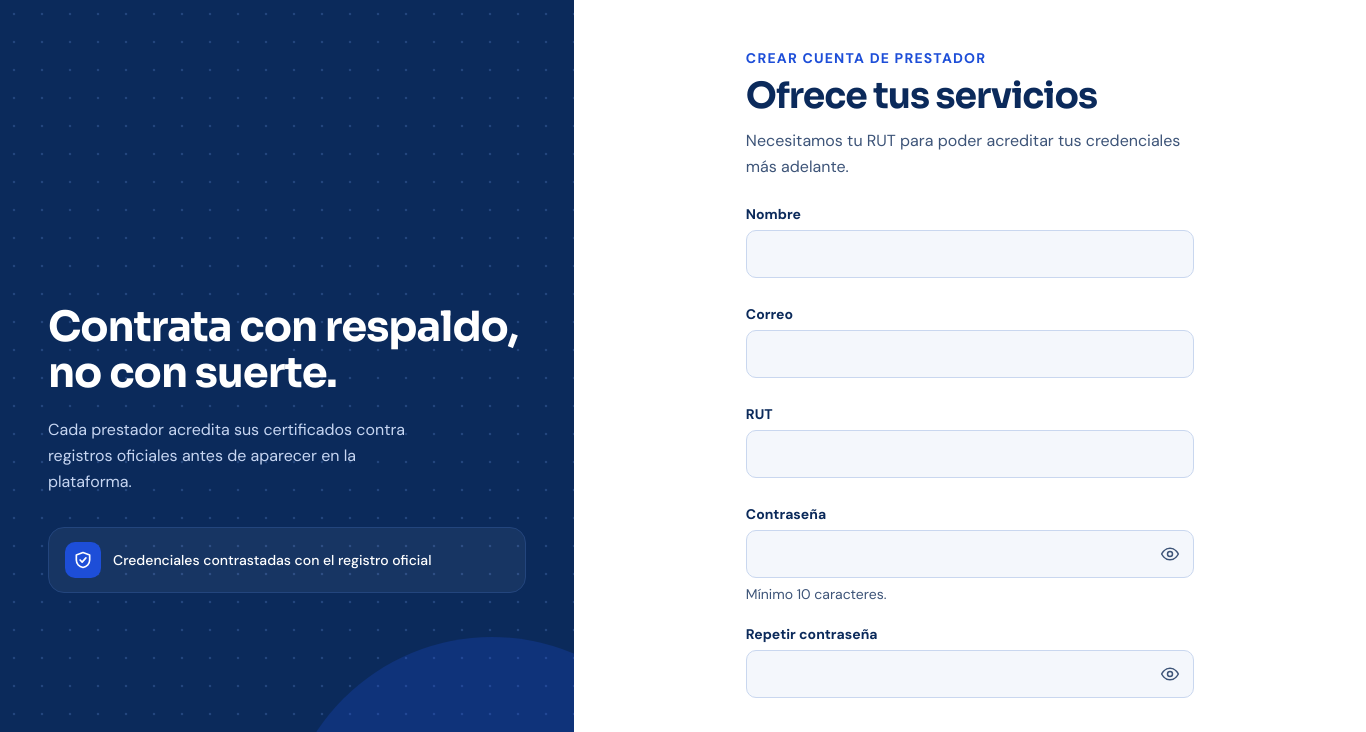
Test case: Registro de prestador › muestra bajo el campo el error de RUT que devuelve la API
In the field labelled "Nombre": (970, 254) 746,230 -> 1194,278, type "Pedro Soto"
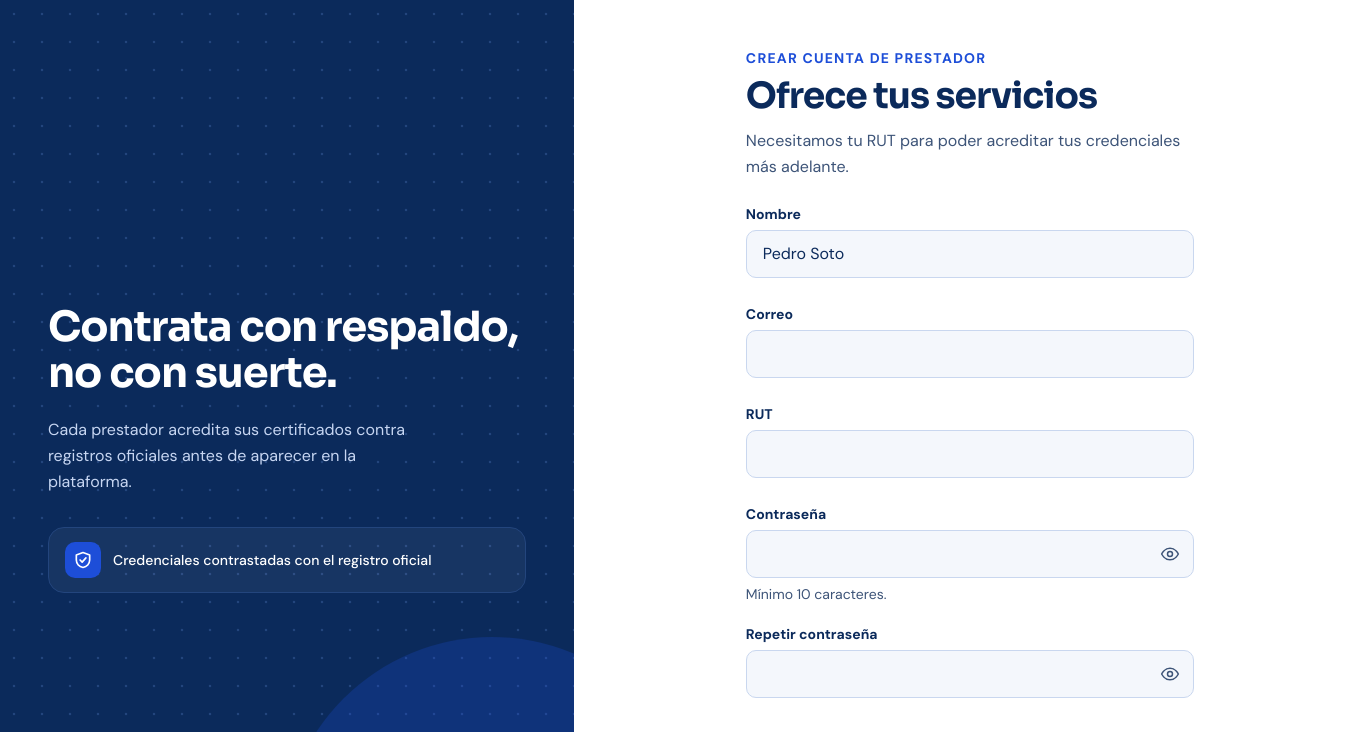
In the field labelled "Correo": (970, 354) 746,330 -> 1194,378, type "pedro.soto@ejemplo.cl"
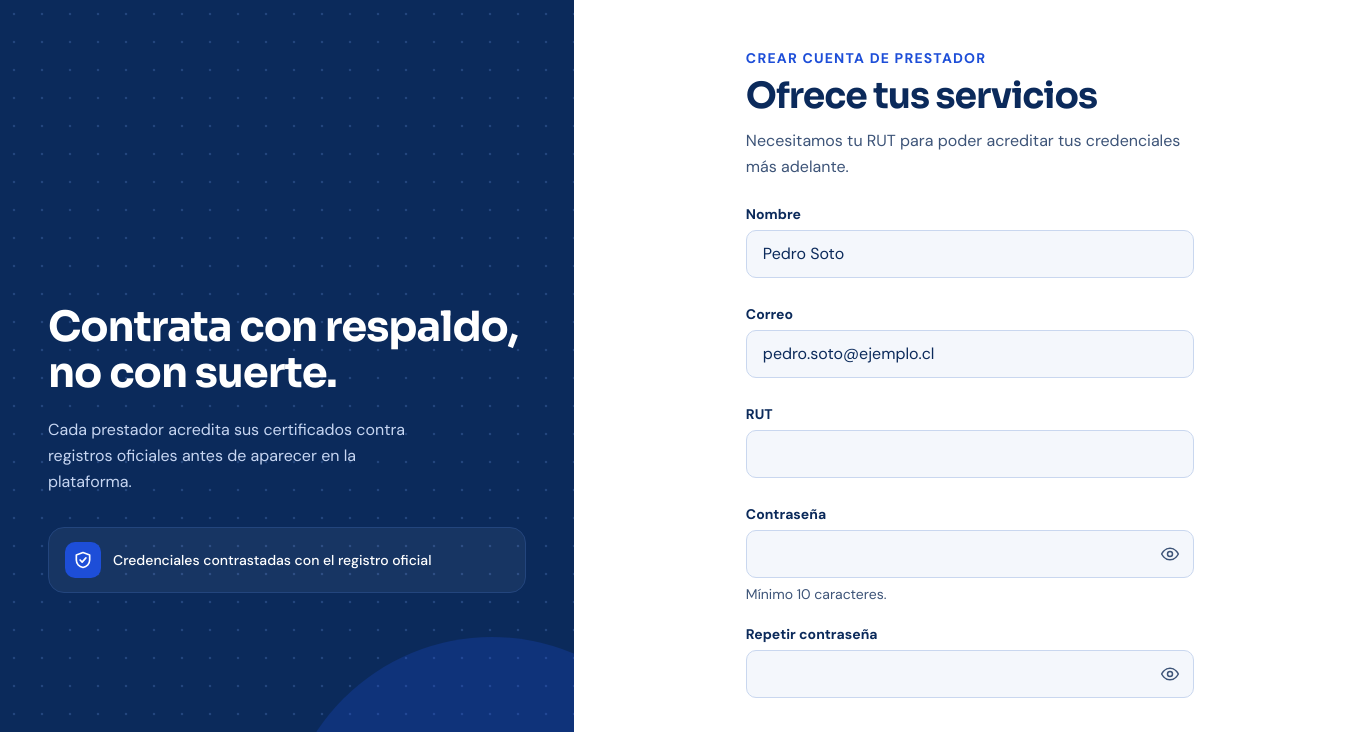
In the field labelled "RUT": (970, 454) 746,430 -> 1194,478, type "12.345.678-5"
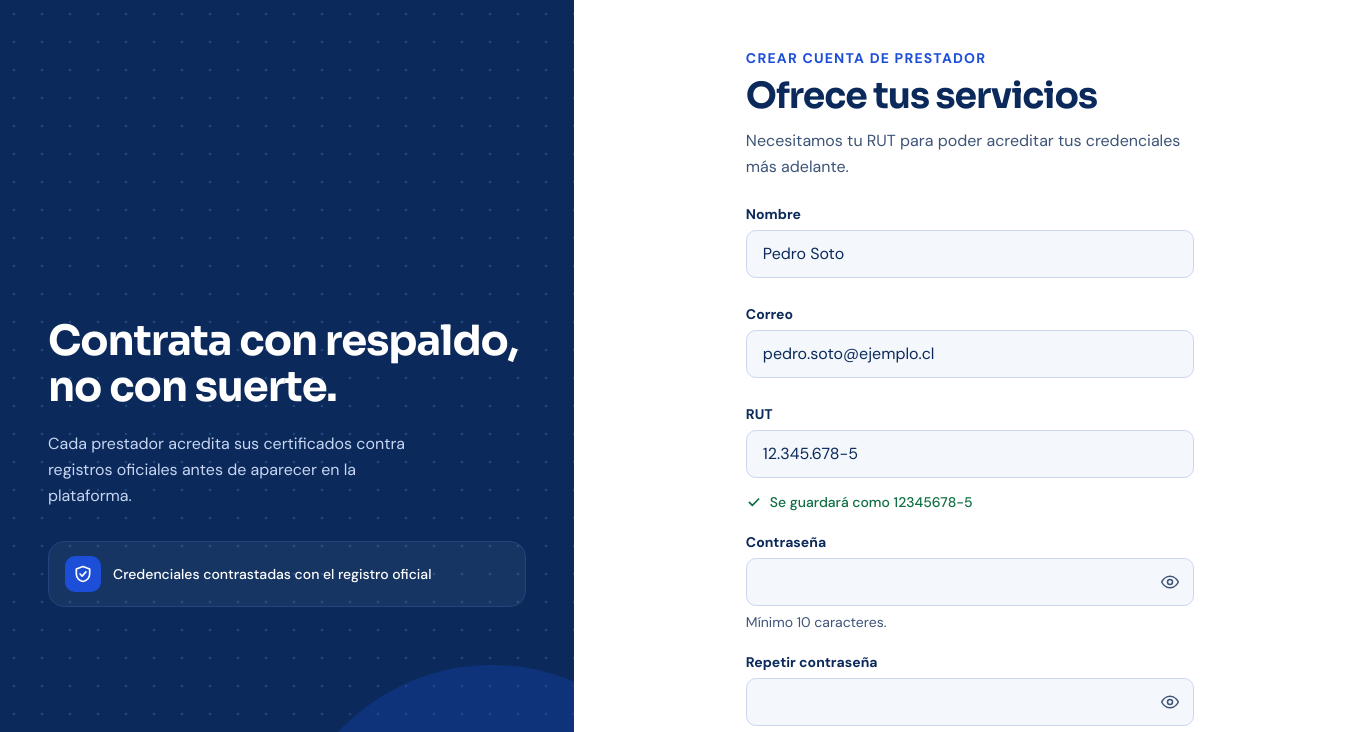
In the password field labelled "Contraseña": (970, 582) 746,558 -> 1194,606, type "contrasena-segura-123"
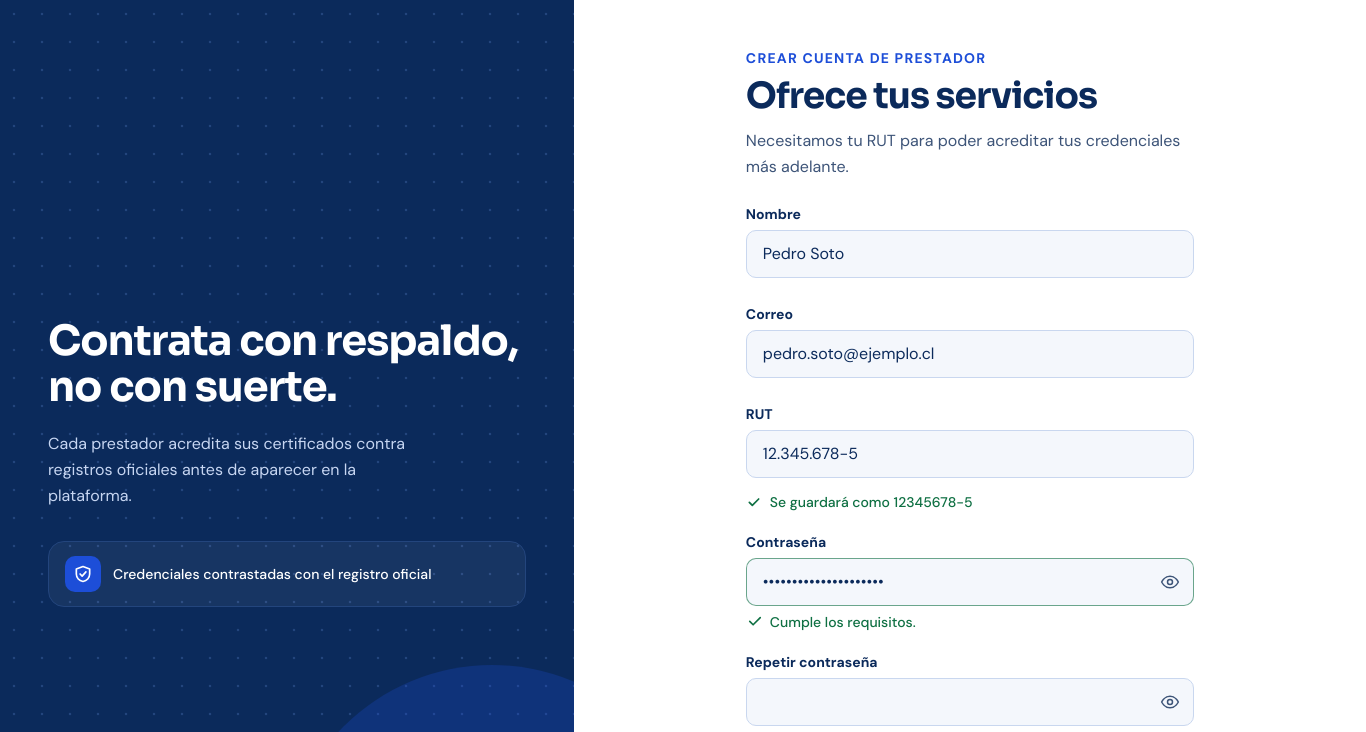
In the password field labelled "Repetir contraseña": (970, 702) 746,678 -> 1194,726, type "contrasena-segura-123"
(page scrolled)
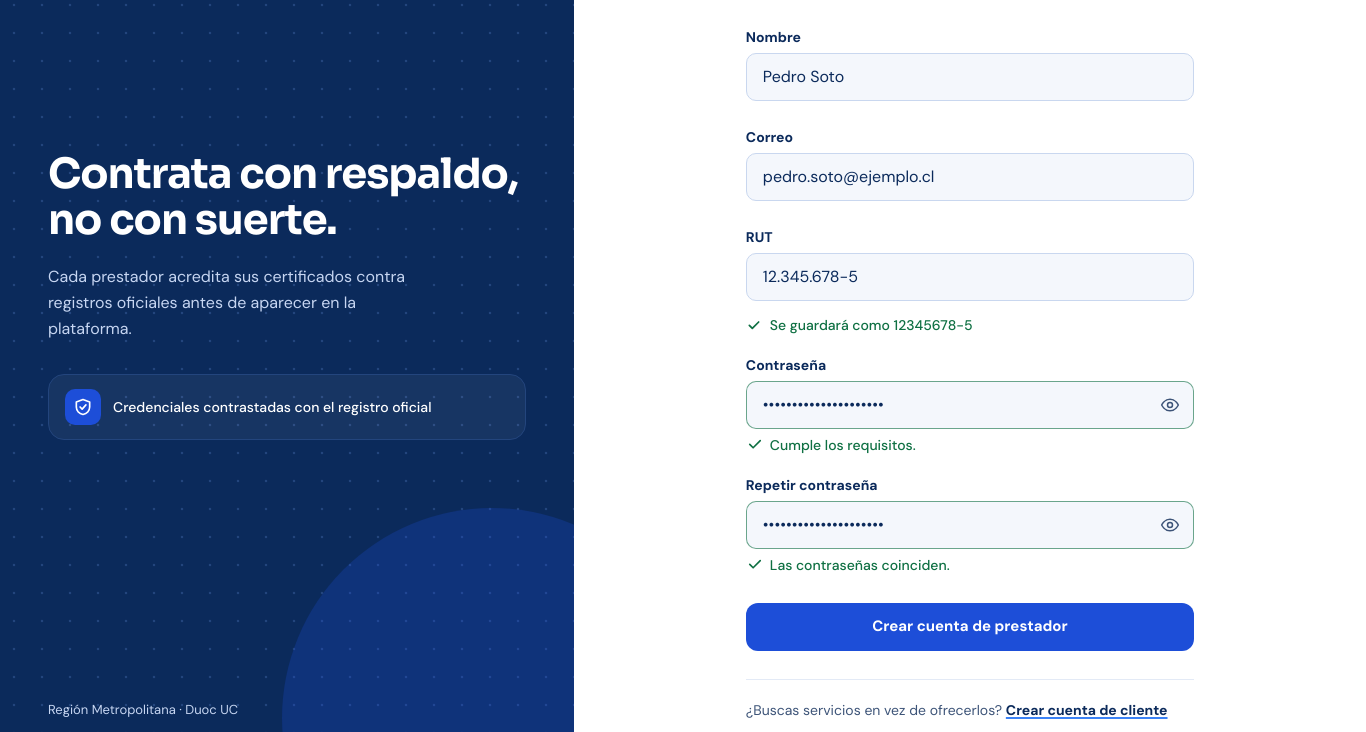
Click the button "Crear cuenta de prestador": (970, 627) 746,603 -> 1194,651
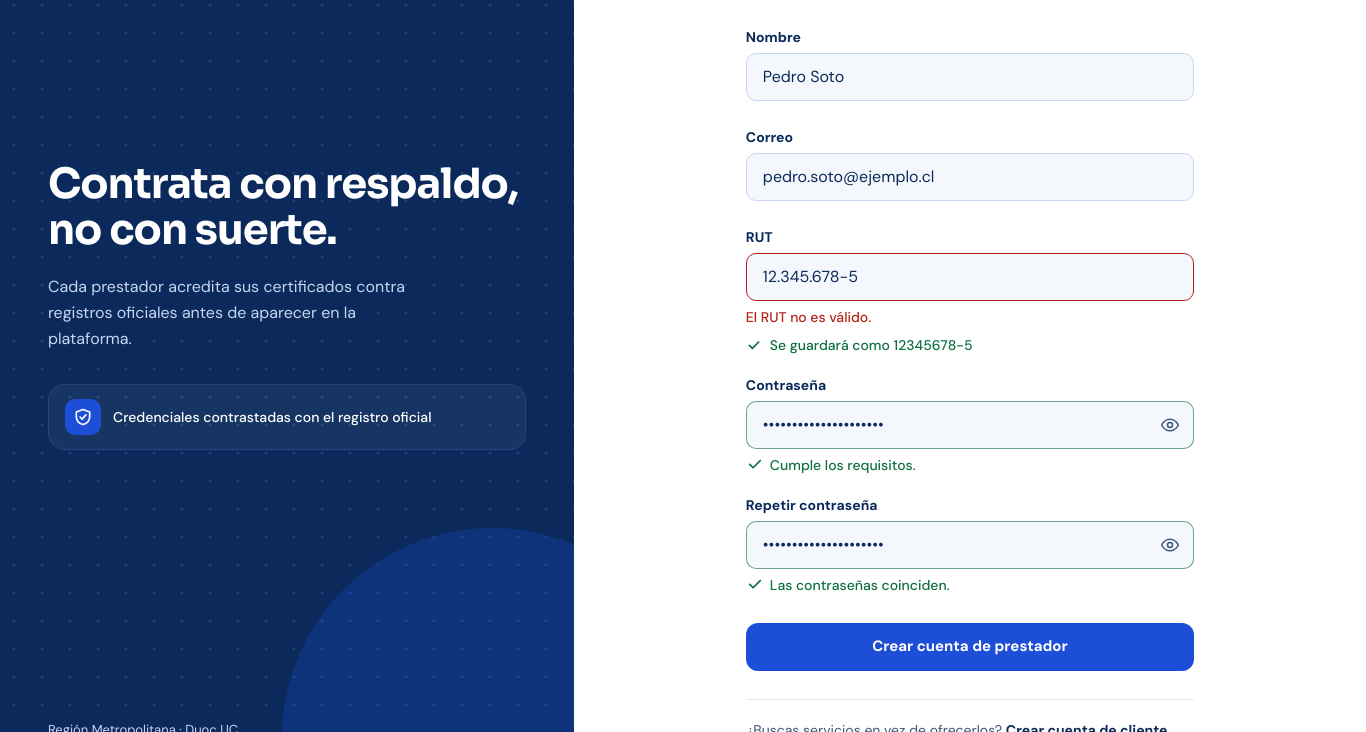
Now the text "El RUT no es válido." is shown, box 746,307 -> 871,327
